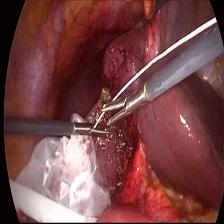Grasper: (102, 82, 146, 126), (74, 121, 110, 142)
Specimen Bag: (8, 142, 114, 224)
